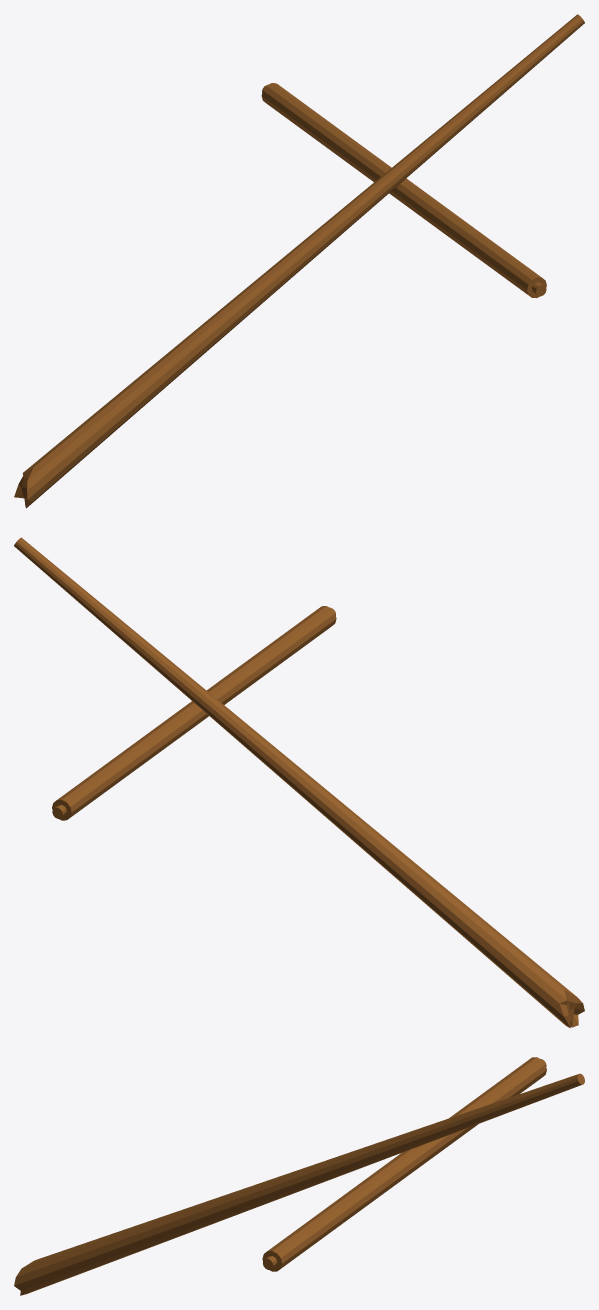
Rendered from Pole 1.fbx.
3 views of the same model, one above another, from view 1: azimuth 30°, elevation 25°; view 2: azimuth 150°, elevation 25°; view 3: azimuth 330°, elevation 25° (orthographic).
Parts seen in each view (by area): view 1: Cylinder.005; view 2: Cylinder.005; view 3: Cylinder.005.
Part boxes in pixels (x1,y1,x2,y2): Cylinder.005: (14,14,584,508); Cylinder.005: (14,537,584,1028); Cylinder.005: (14,1057,584,1295).
Bounding box in the file's own units: 70.65 × 42.61 × 59.47.
